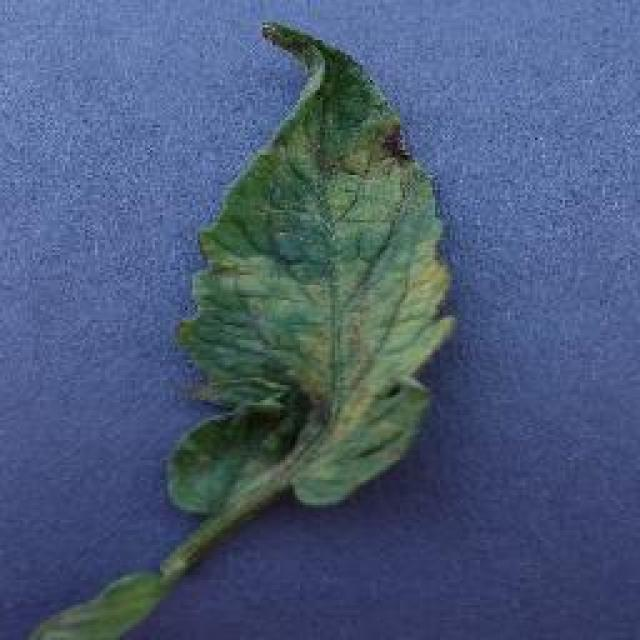leaf mold: (29, 25, 461, 631)
